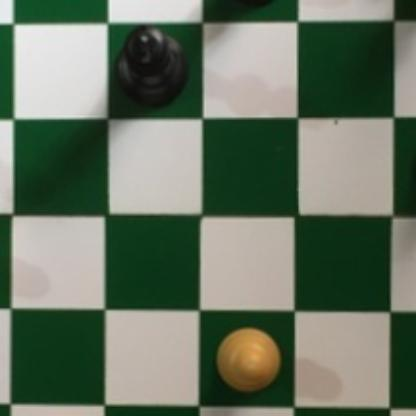black-bishop: (397, 0, 416, 6)
black-king: (110, 17, 193, 110)
black-pawn: (216, 0, 287, 10), (410, 127, 416, 202)
white-pawn: (210, 324, 285, 397), (23, 412, 98, 416)
